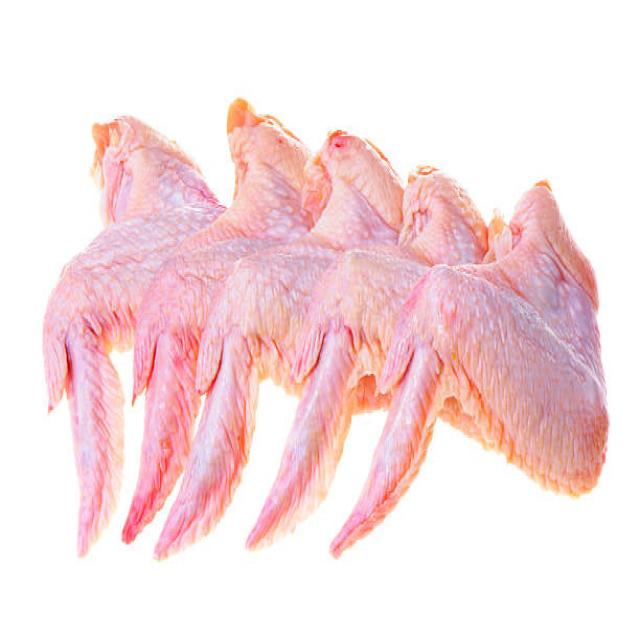chicken wing: (190, 137, 420, 554), (371, 195, 605, 546), (36, 116, 220, 539)
